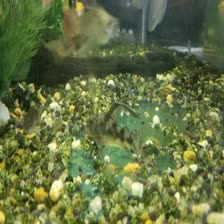Guppy: (70, 7, 117, 47)
Kiros: (80, 101, 163, 170)
